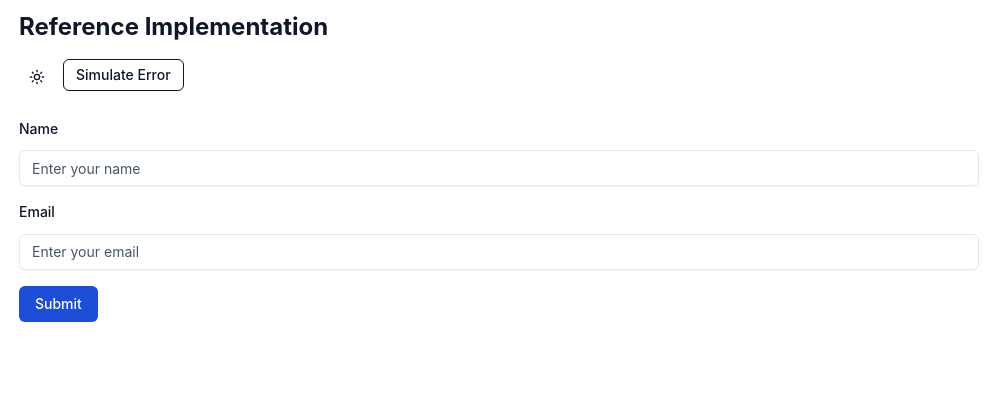
Test: ReferencePage › clears error when user enters valid input after blur
Click the field labelled "Name" at (499, 168), box [19,150,979,186]
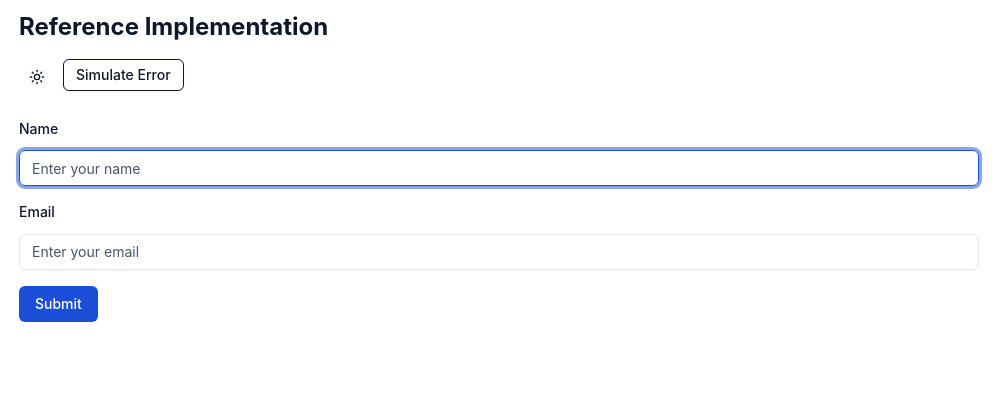
Press Tab
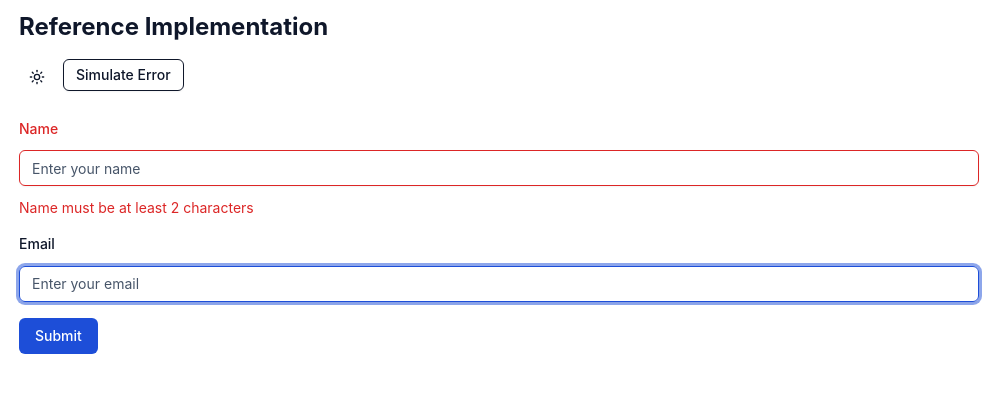
Expected: the text "Name must be at least 2 characters" is shown, [19,199,254,216]
Click the field labelled "Name" at (499, 168), box [19,150,979,186]
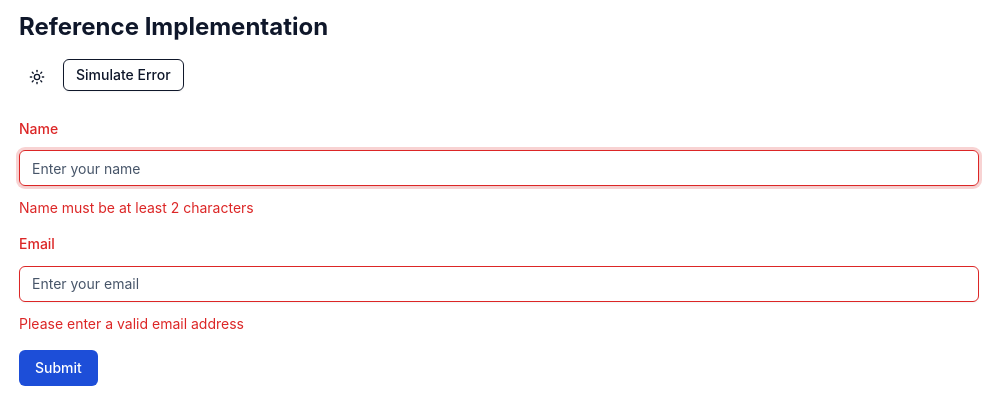
Type keys "John"
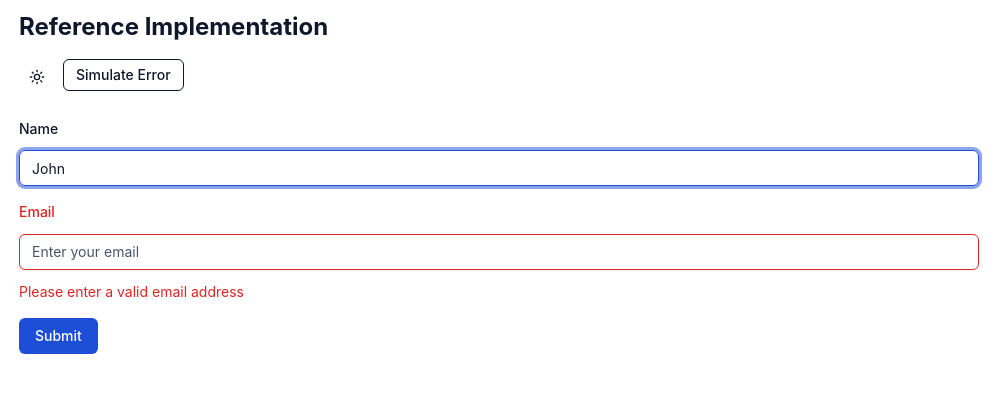
Expected: the text "Name must be at least 2 characters" is gone
